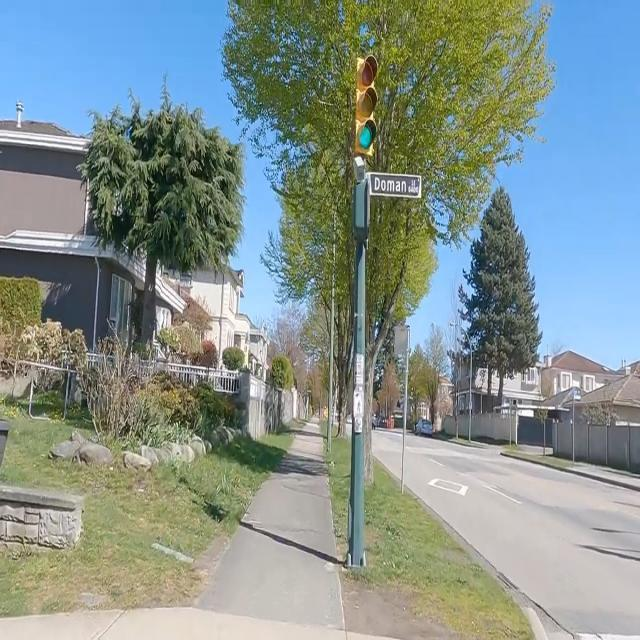Automobile: (415, 418, 431, 436)
Obstacle: (0, 411, 289, 615), (344, 464, 531, 639), (346, 56, 376, 567), (341, 575, 463, 639), (0, 485, 82, 548), (233, 376, 303, 440), (330, 440, 348, 535)
Road: (405, 433, 639, 639), (406, 435, 639, 634), (374, 430, 400, 477)
Sidewalk: (1, 416, 390, 640)
